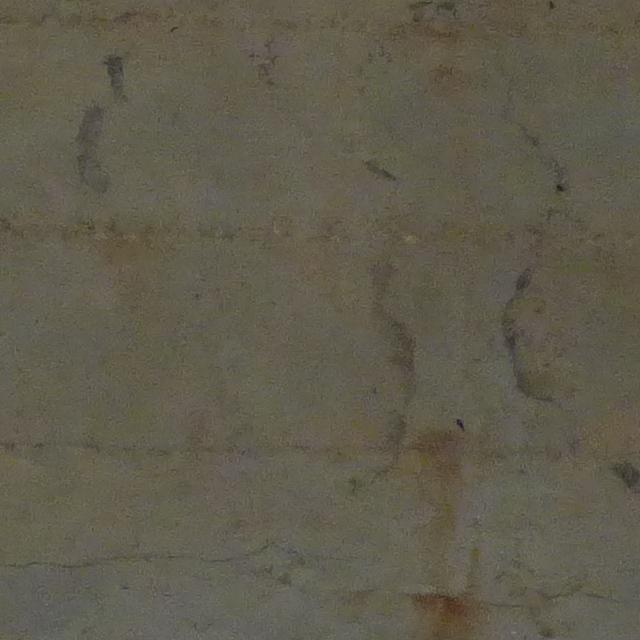Rust: (408, 586, 471, 626)
